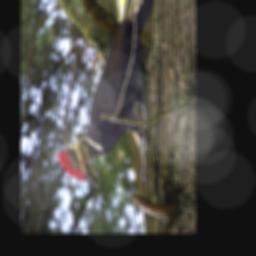Woodpecker: (56, 0, 159, 192)
